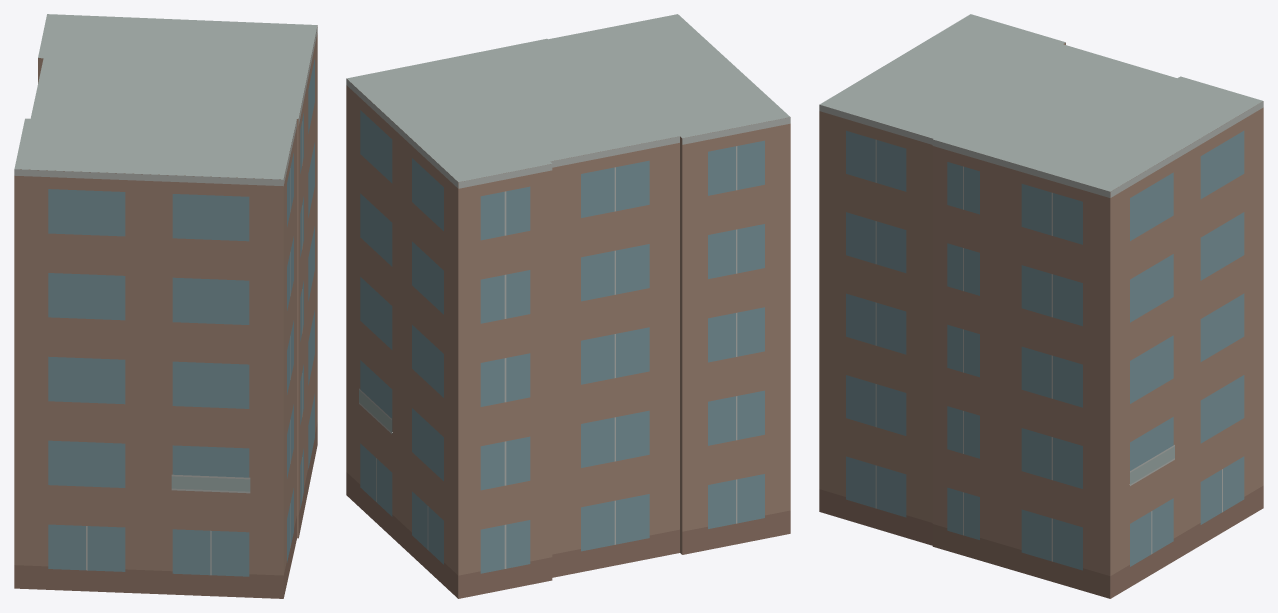
The model's file is survey-upis-32966586.glb.
The picture shows the model from 3 angles, left to right: view 1: azimuth 30°, elevation 25°; view 2: azimuth 150°, elevation 25°; view 3: azimuth 270°, elevation 25°; orthographic projection. The views are drawn at different scales.
Visible parts, largest first — view 1: survey-upis-32966586.tmp; view 2: survey-upis-32966586.tmp; view 3: survey-upis-32966586.tmp.
Part boxes in pixels (bbox=[...]): survey-upis-32966586.tmp: bbox=[14, 14, 317, 598]; survey-upis-32966586.tmp: bbox=[346, 14, 790, 598]; survey-upis-32966586.tmp: bbox=[819, 14, 1263, 598].
Size of the model in its own units: 14.47 by 15.45 by 15.28.
